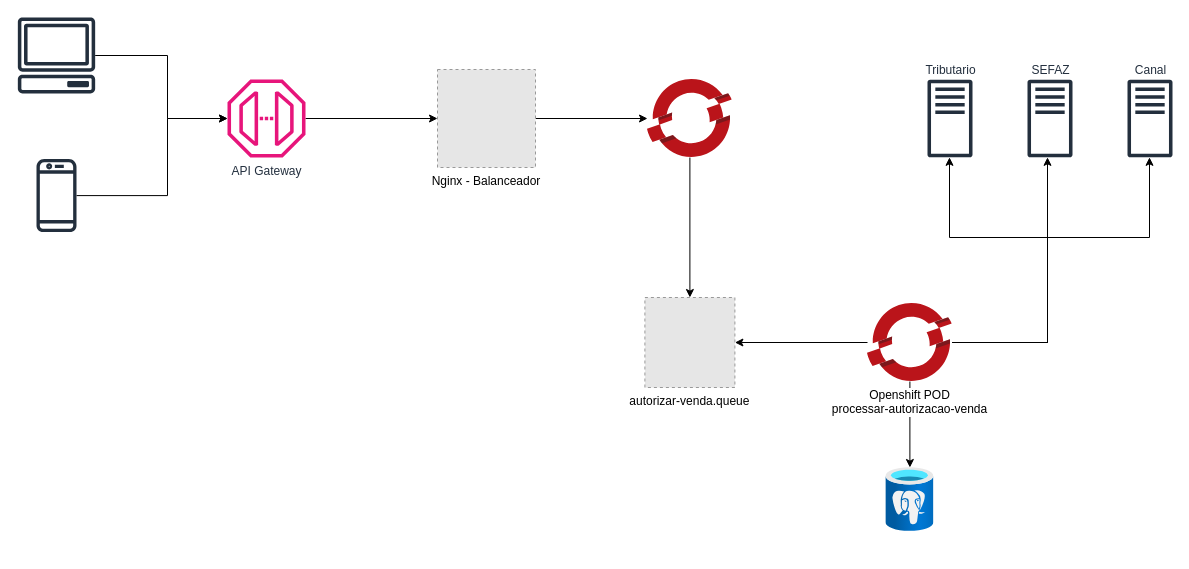
The diagram is 1189 pixels wide and 569 high, and some of its shapes have lost their labels. Grey dashed boxes stand in for pictures. Each missing label, with the centre of its shape:
"client" goes at (x=56, y=55).
"mobile client" goes at (x=56, y=195).
"Openshift POD autorizar-venda" goes at (x=689, y=118).
"Postgress" goes at (x=909, y=499).
